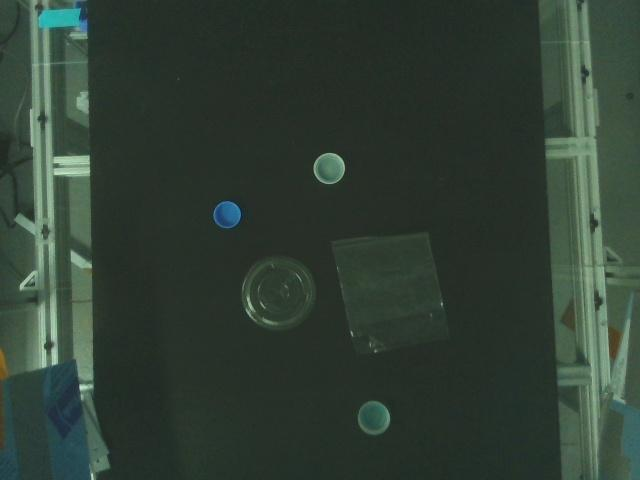plastic: (329, 229, 456, 357), (239, 253, 320, 333), (356, 398, 393, 437), (311, 151, 349, 187), (211, 199, 243, 231)
